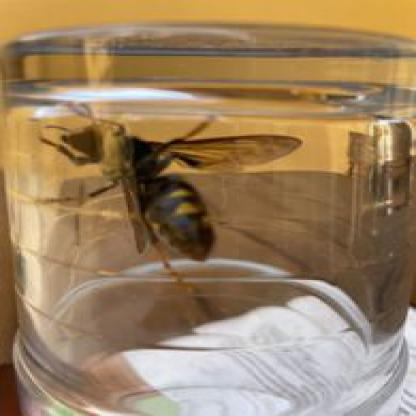Asian Hornet: (51, 107, 315, 260)
